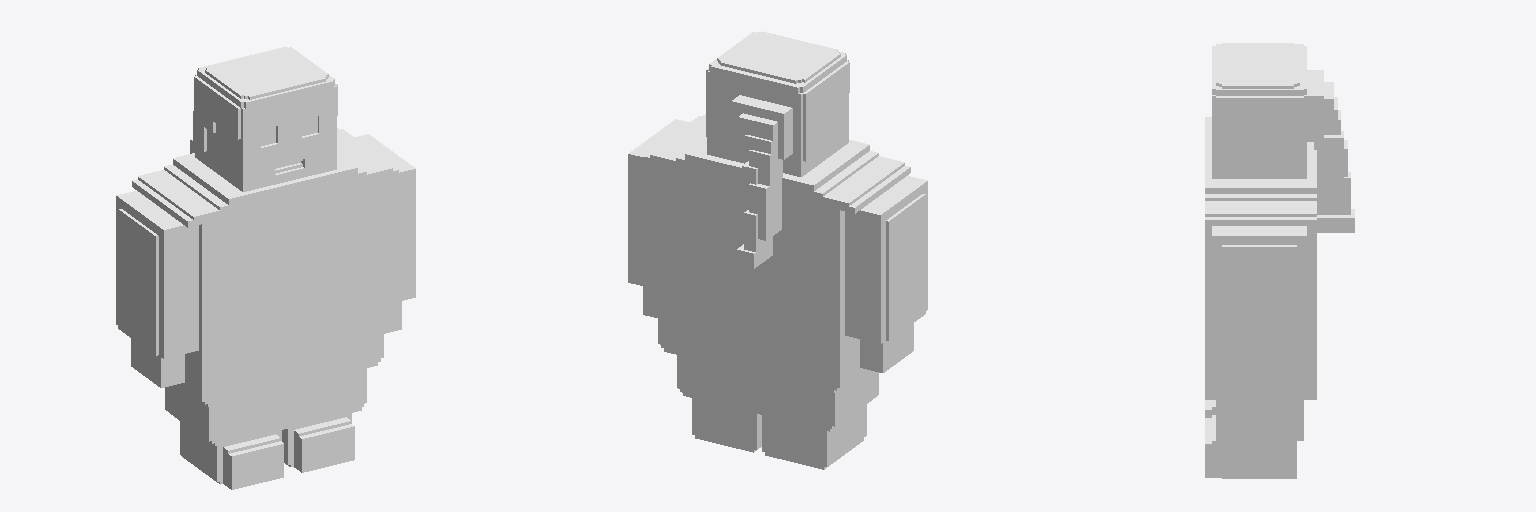
File: human_3.obj
The picture shows the model from 3 angles: view 1: azimuth 30°, elevation 25°; view 2: azimuth 150°, elevation 25°; view 3: azimuth 270°, elevation 25°; orthographic projection.
Parts seen in each view (by area): view 1: human_3; view 2: human_3; view 3: human_3.
Part boxes in pixels (x1,y1,x2,y2): human_3: (116,47,415,489); human_3: (628,31,927,469); human_3: (1205,43,1354,478).
Bounding box in the file's own units: 88 × 125 × 44.